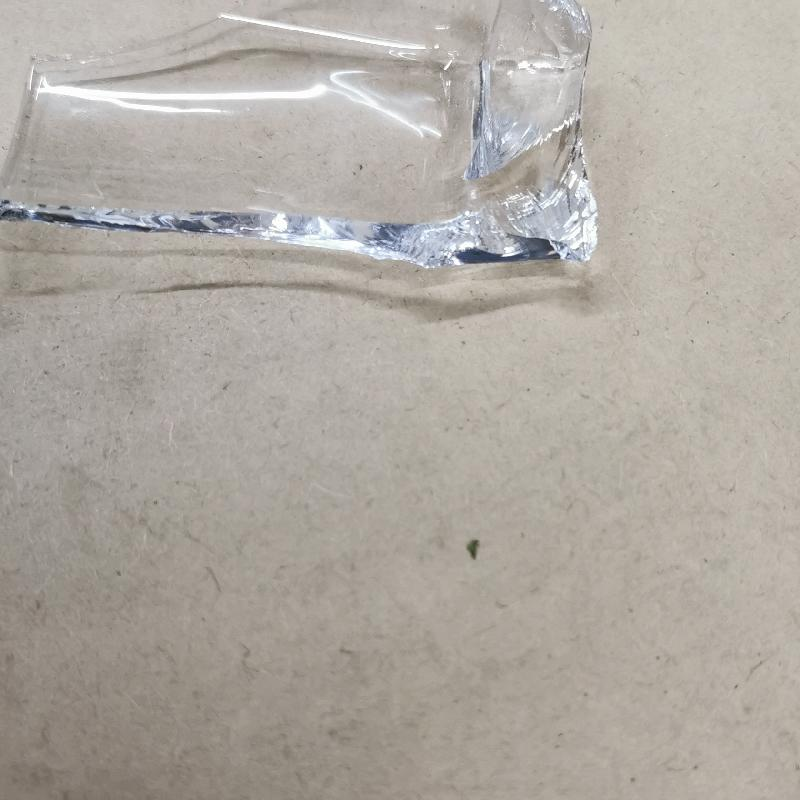glass: (10, 5, 603, 272)
